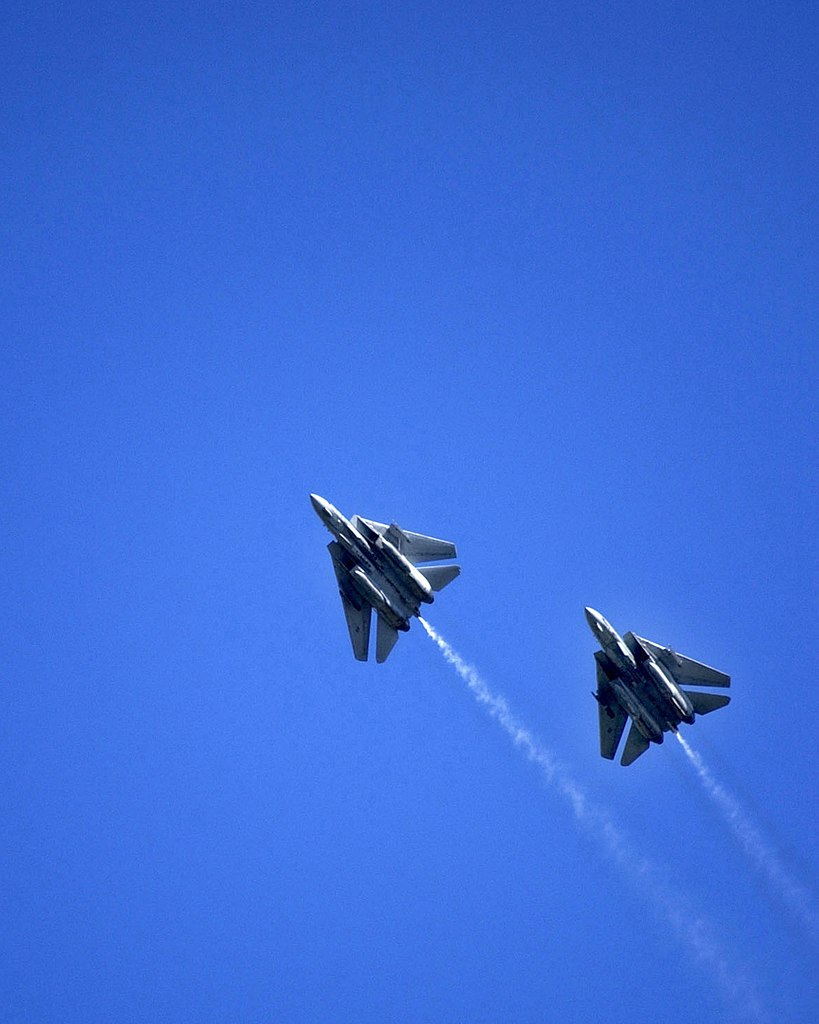F14: (309, 493, 462, 664), (584, 606, 731, 767)
